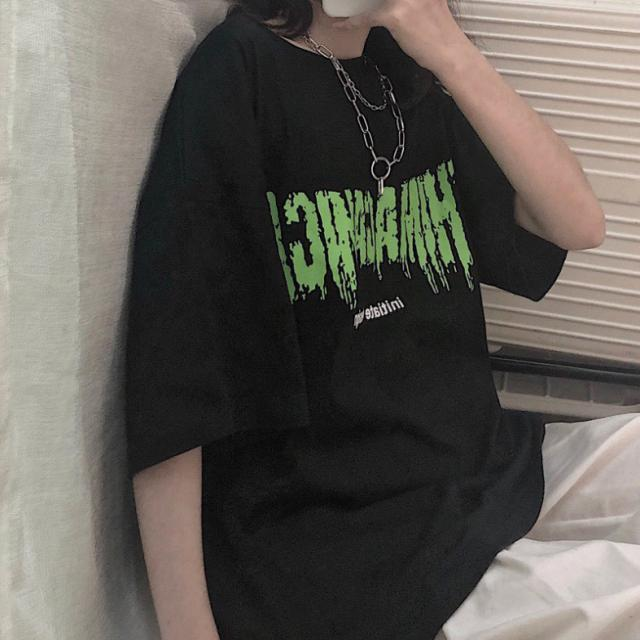Shirt: (115, 8, 583, 639)
